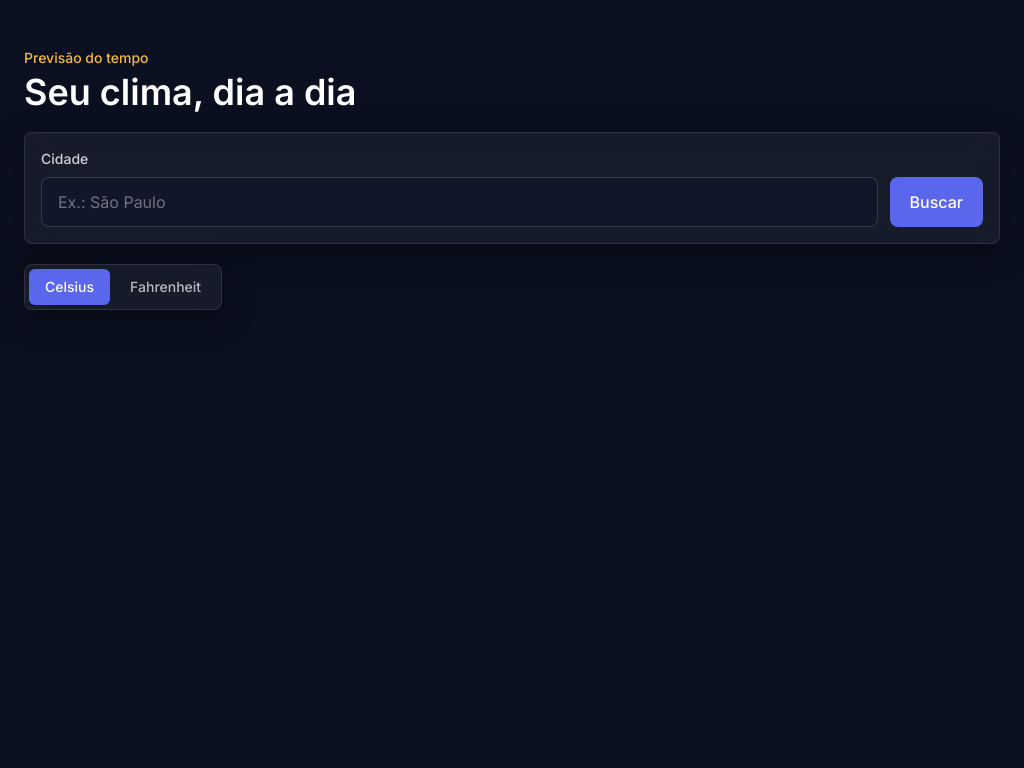
Test: App › shows weather after a valid city search and selection
This screenshot has width=1024, height=768.
Type "São Paulo" into the field labelled "Cidade" at (459, 202), box left=41, top=177, right=878, bottom=227
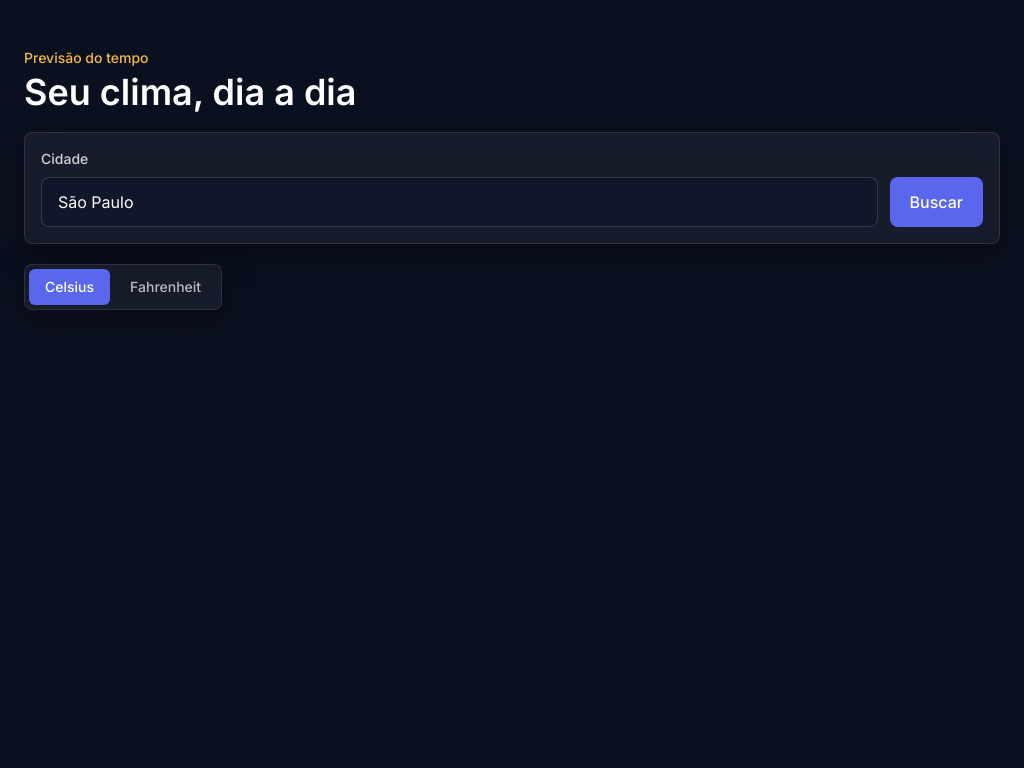
Click the button "Buscar" at (936, 202), box left=890, top=177, right=983, bottom=227
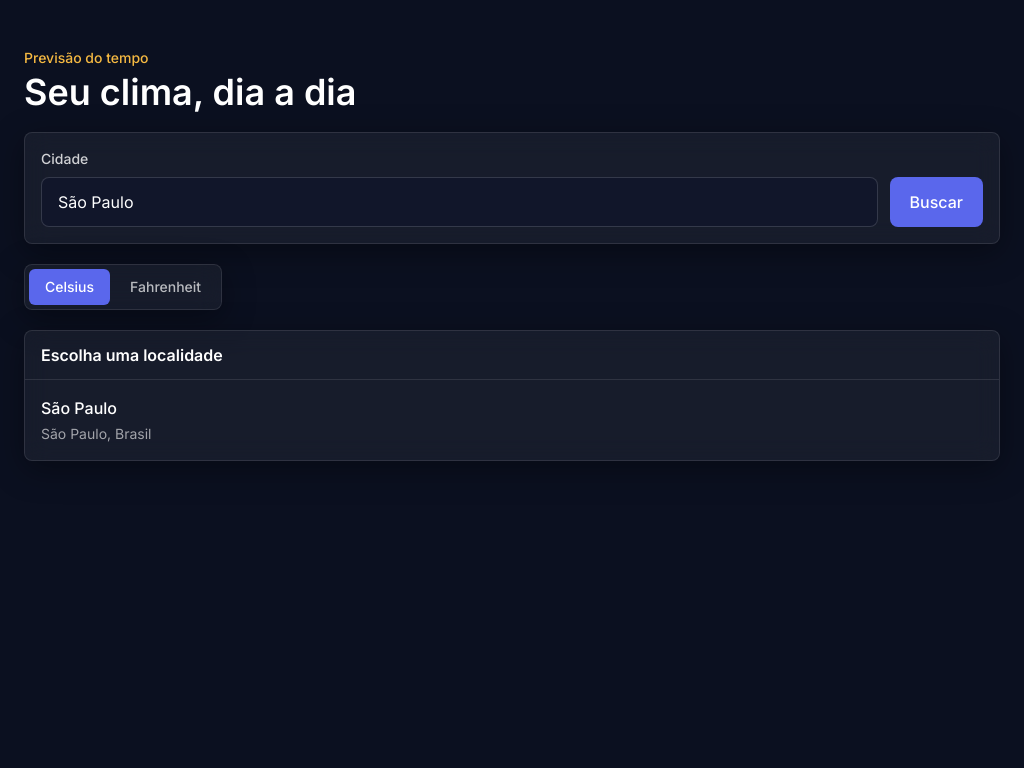
Expected: the button "São Paulo São Paulo, Brasil" is shown
Click the button "São Paulo São Paulo, Brasil" at (79, 408), box left=29, top=384, right=995, bottom=456
(page scrolled)
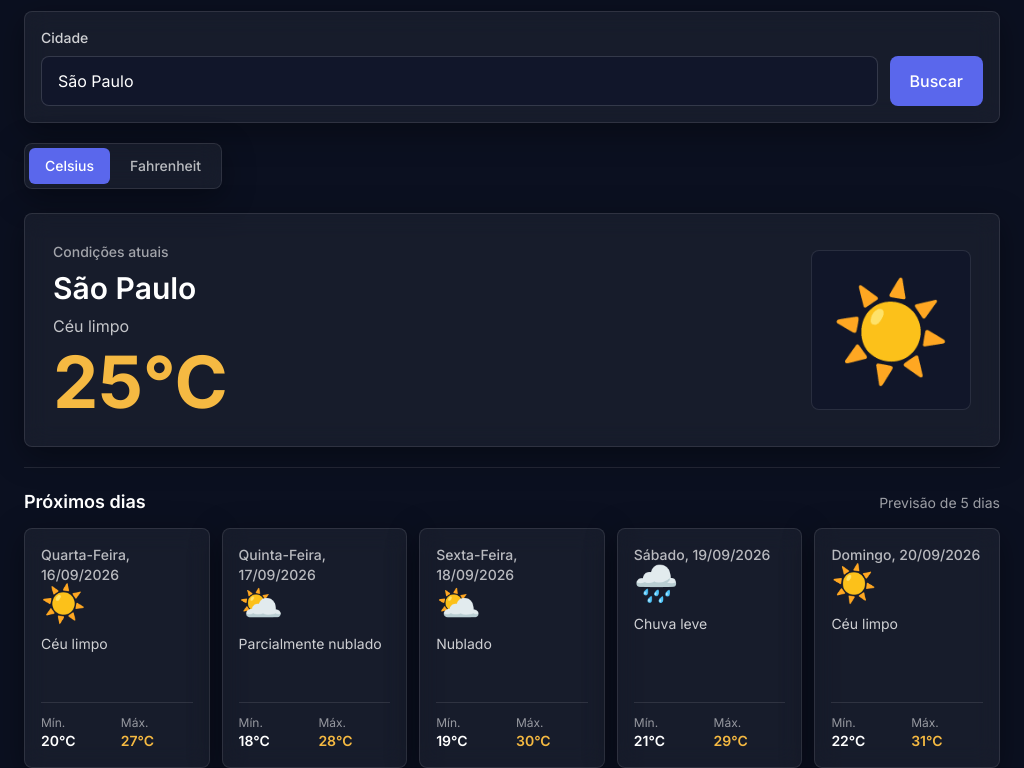
Expected: the text "25°C" is shown, left=53, top=346, right=228, bottom=418
